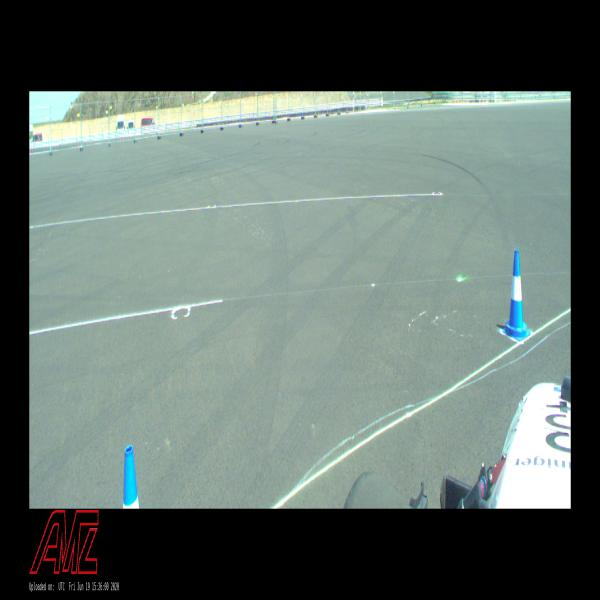blue_cone: (502, 249, 530, 341), (123, 444, 139, 508)
